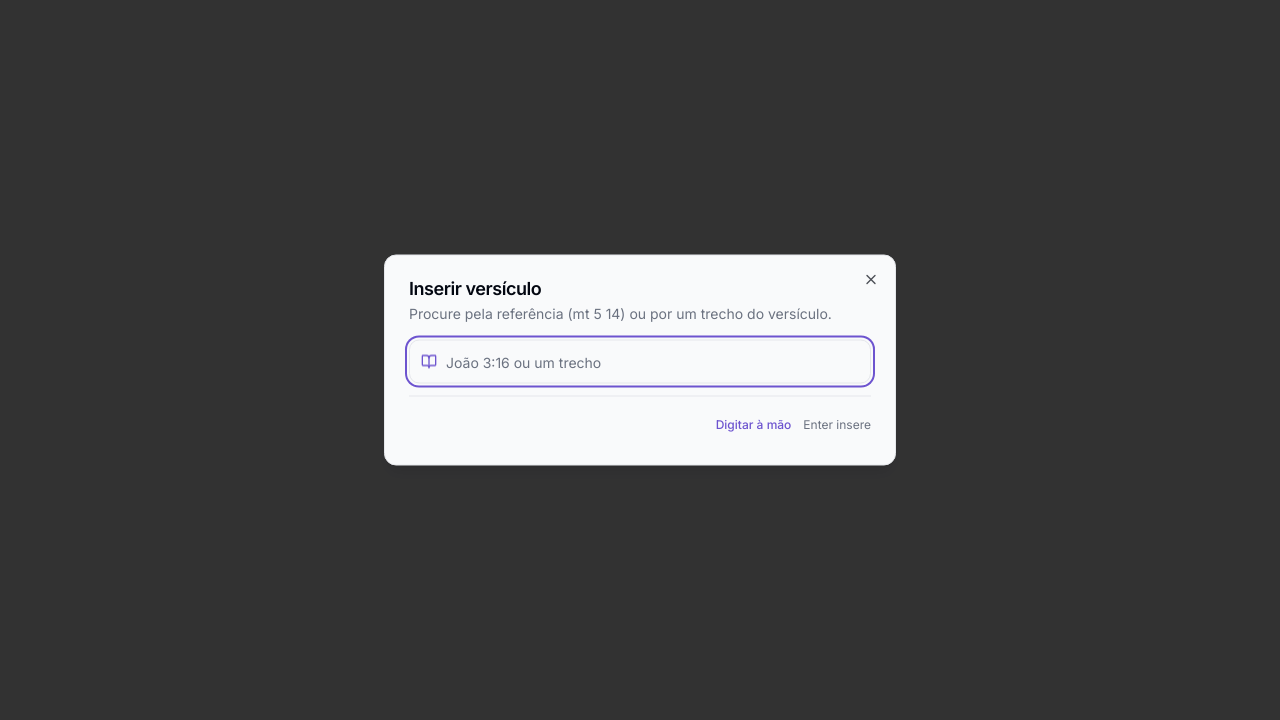
Scenario: VerseDialog — busca › sem resultado mostra o aviso
This screenshot has width=1280, height=720.
Type "palavra que não existe" into the dropdown named "Referência ou palavras do versículo" at (640, 362), box x1=409 y1=340 x2=871 y2=384
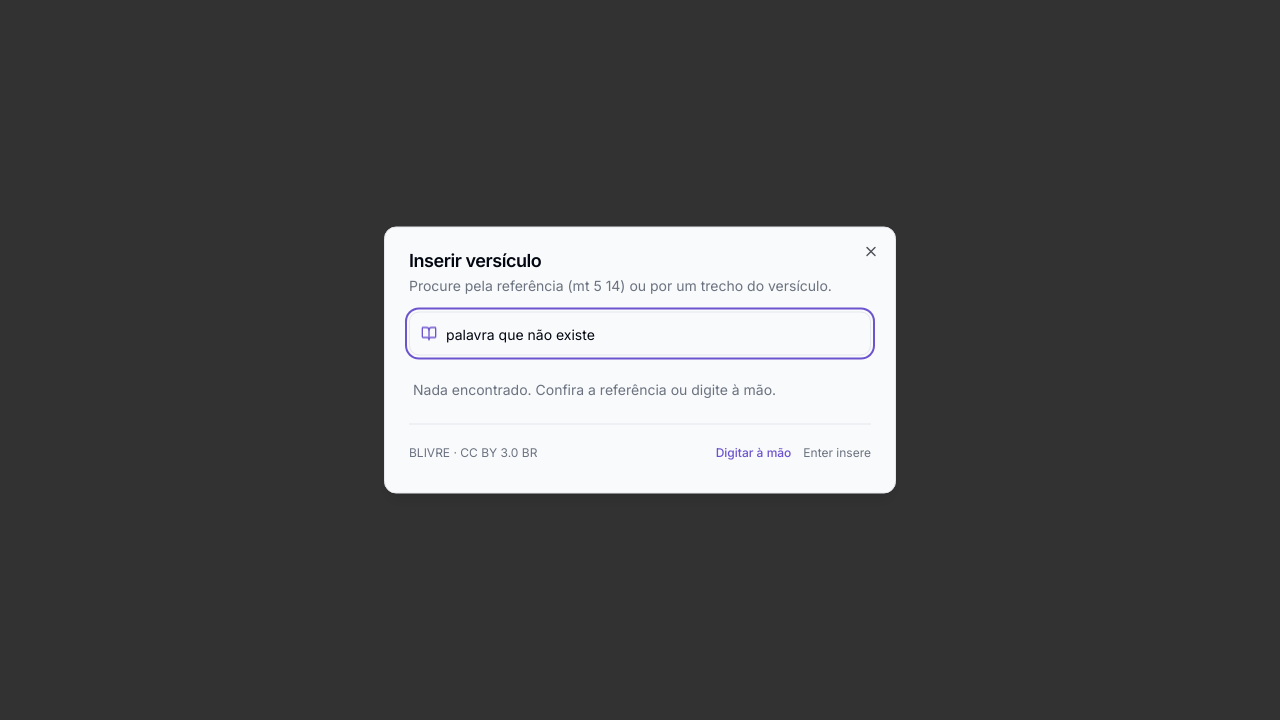
Check: the text "Nada encontrado. Confira a referência ou digite à mão." is shown, box x1=413 y1=380 x2=776 y2=398
